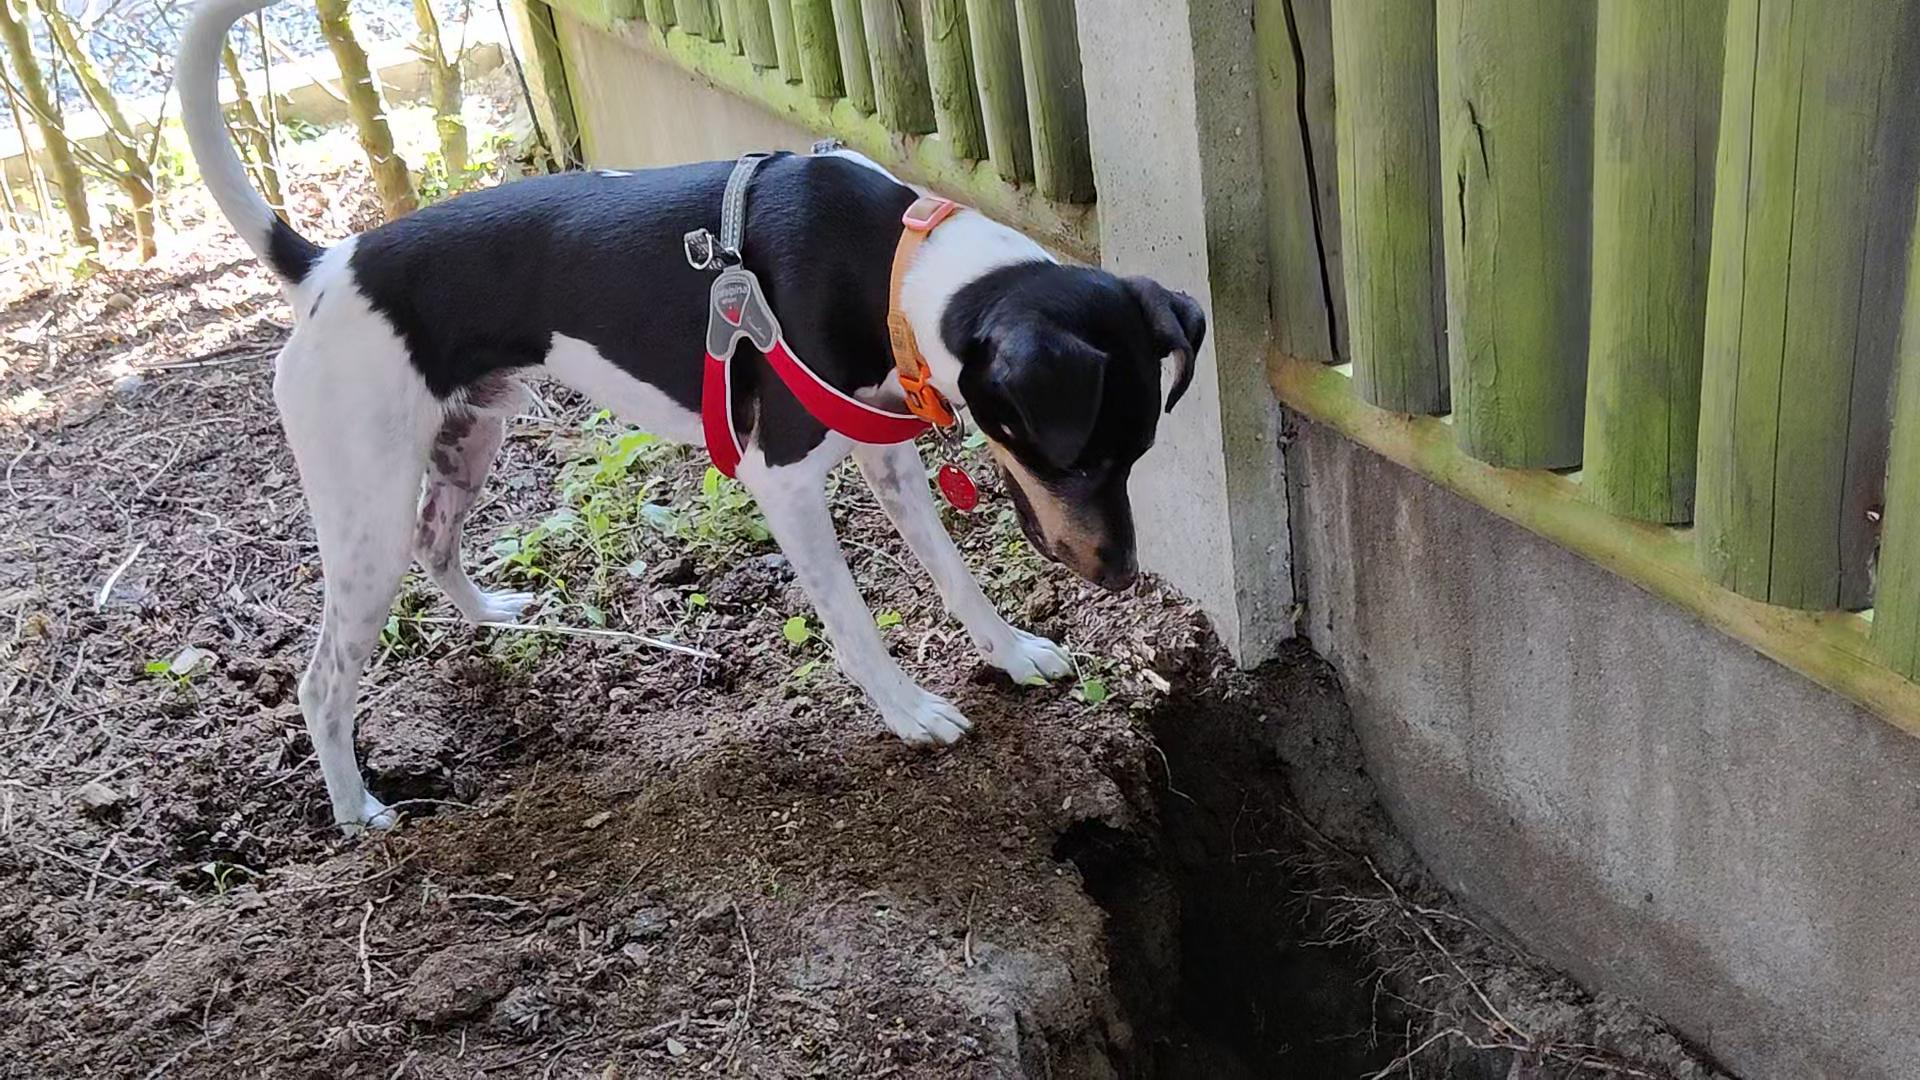Dog: (153, 0, 1218, 840)
